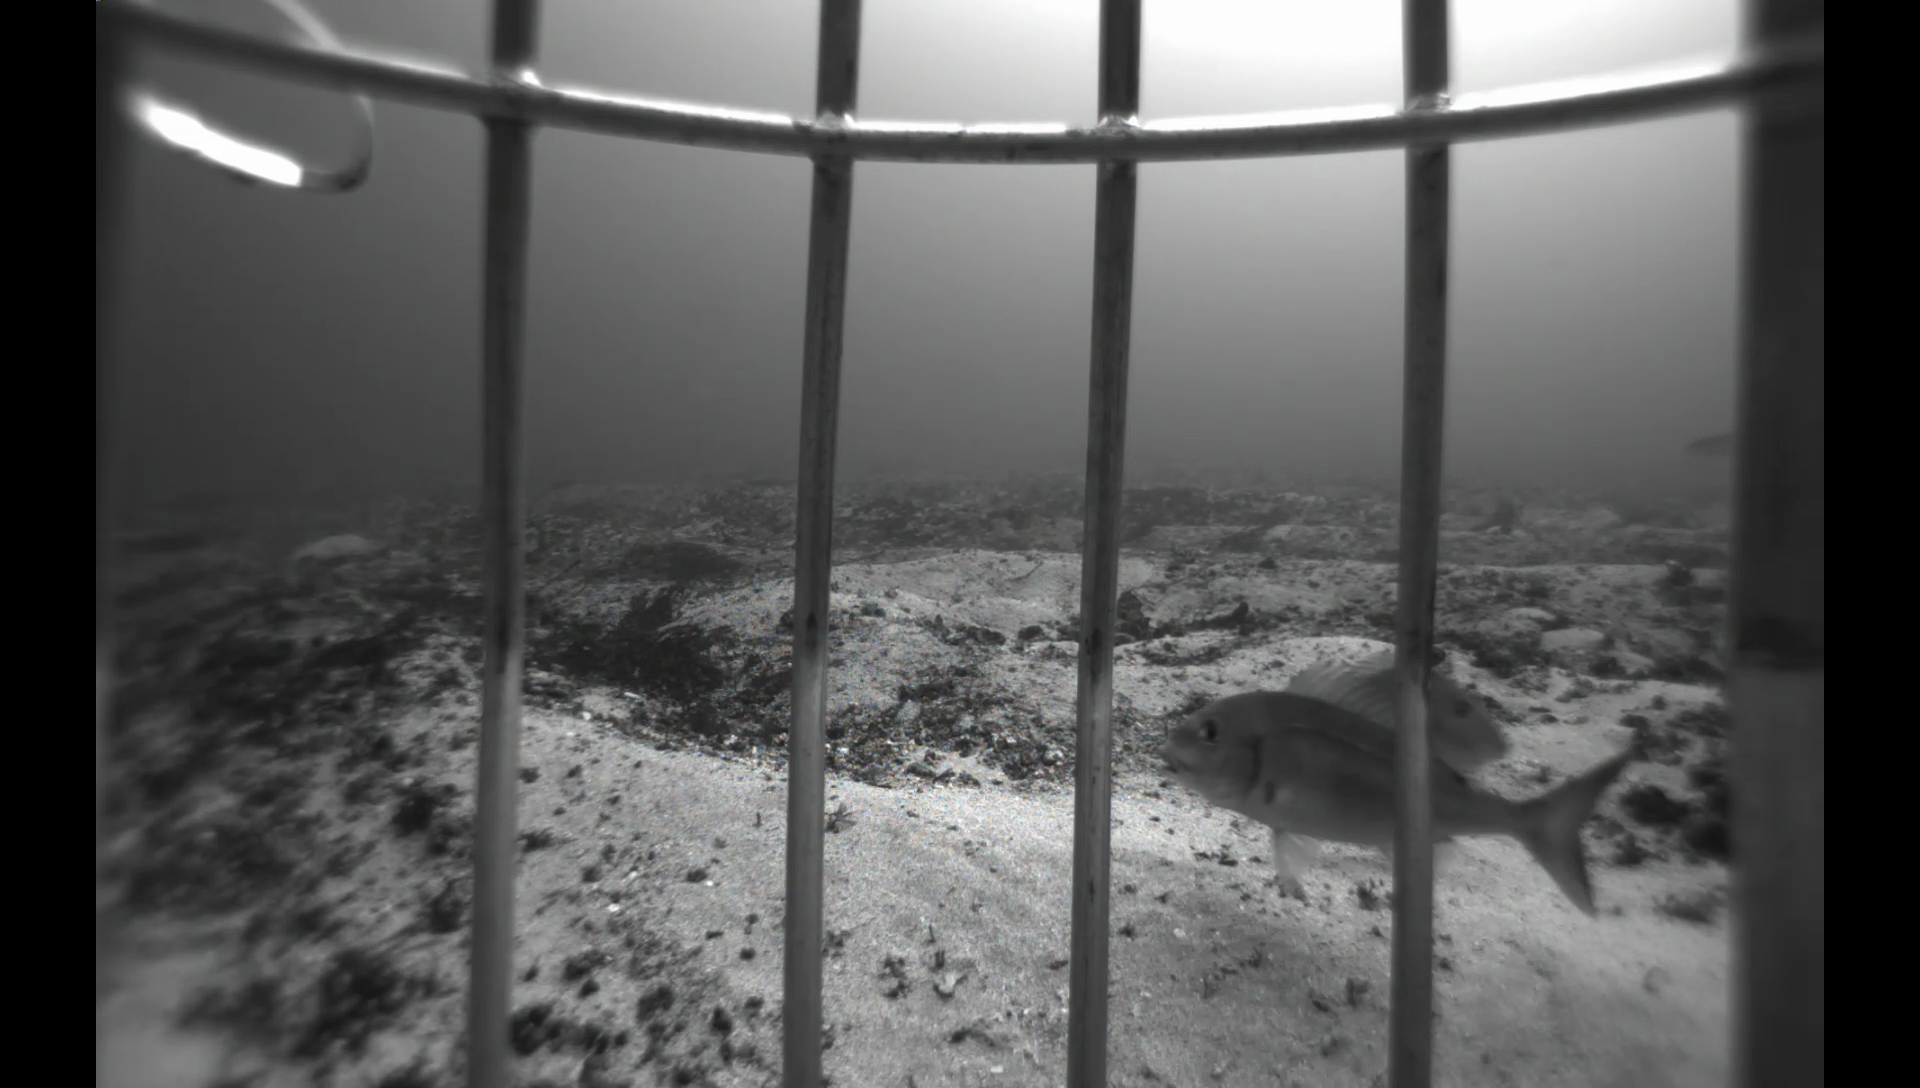CALAMUSNODOSUS-170210608: (1324, 640, 1516, 786)
MALACANTHUSPLUMIERI-170070301: (1672, 431, 1734, 462)
PAGRUSPAGRUS-170212302: (1153, 655, 1646, 928)
